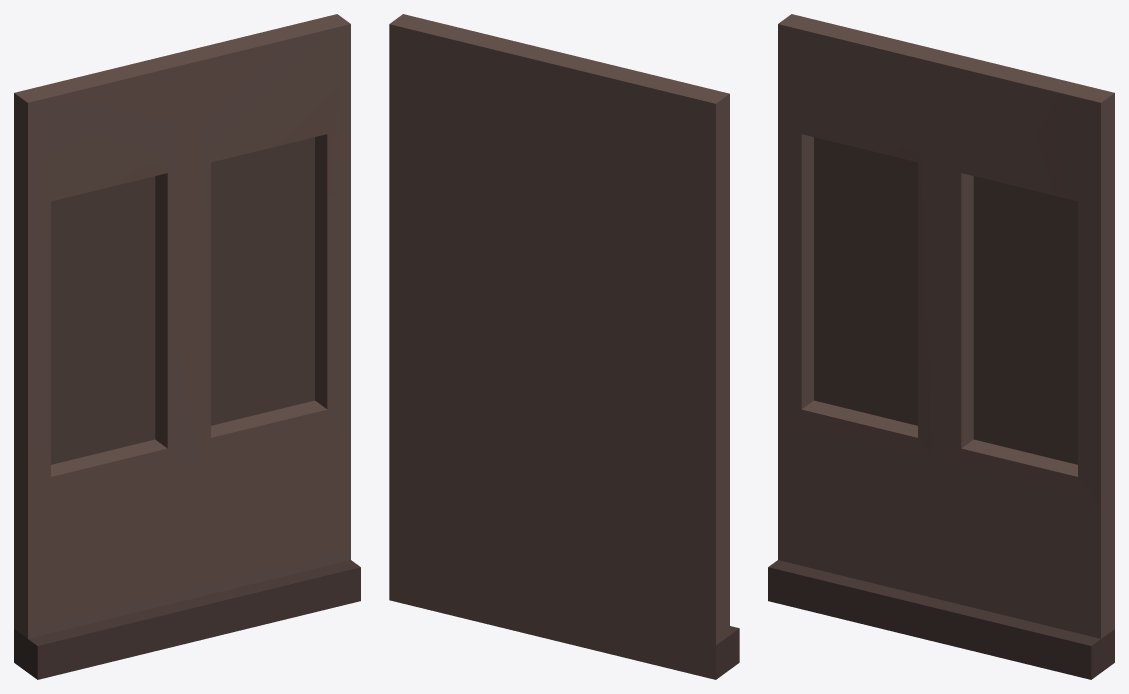
Rendered from SM_Env_Door_23.fbx.
3 renders of one model, left to right at view 1: azimuth 30°, elevation 25°; view 2: azimuth 150°, elevation 25°; view 3: azimuth 330°, elevation 25°, orthographic.
Visible parts, largest first — view 1: SM_Env_Door_23; view 2: SM_Env_Door_23; view 3: SM_Env_Door_23.
Boxes of the visible parts, x1,y1,x2,y2 form: SM_Env_Door_23: [14, 14, 360, 679]; SM_Env_Door_23: [389, 14, 739, 679]; SM_Env_Door_23: [768, 14, 1114, 679].
Size of the model in its own units: 91.22 by 154 by 11.5.
1 material, 1 textured.
